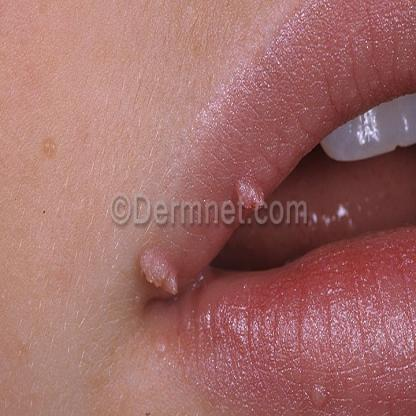Warts: (138, 238, 183, 301)
